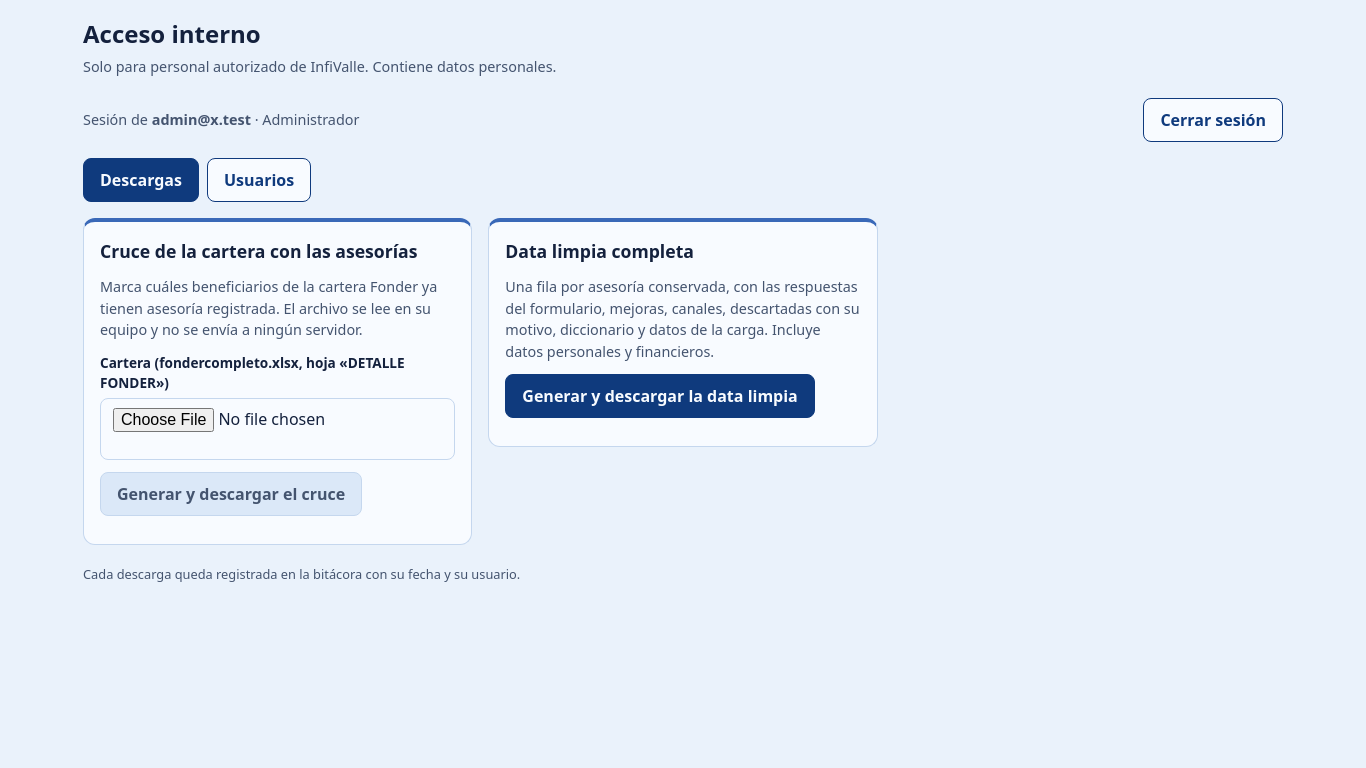
it: Panel de usuarios › si no hay conexión con la función lo dice
Click the button "Usuarios" at coordinates (259, 180), box [207,158,311,202]
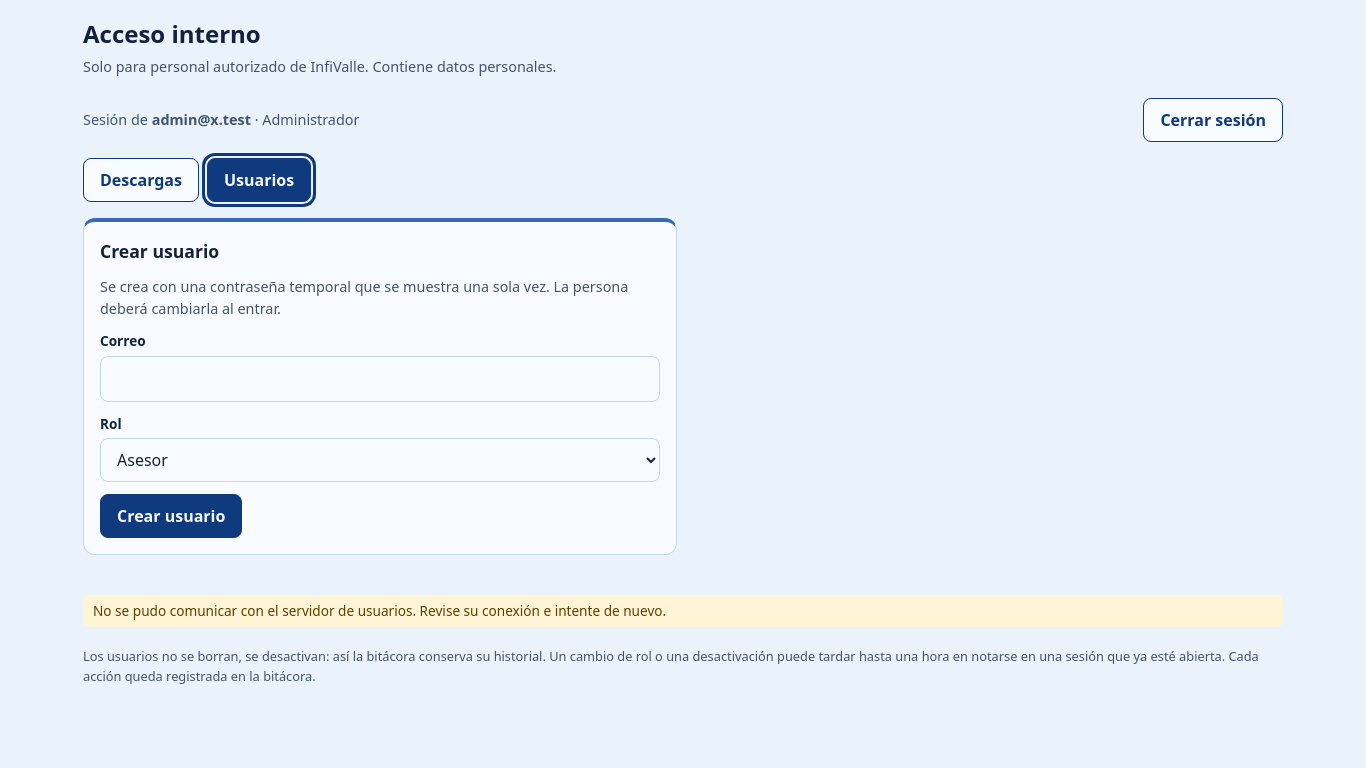
Check: the message shows "No se pudo comunicar", box [93,601,666,620]
